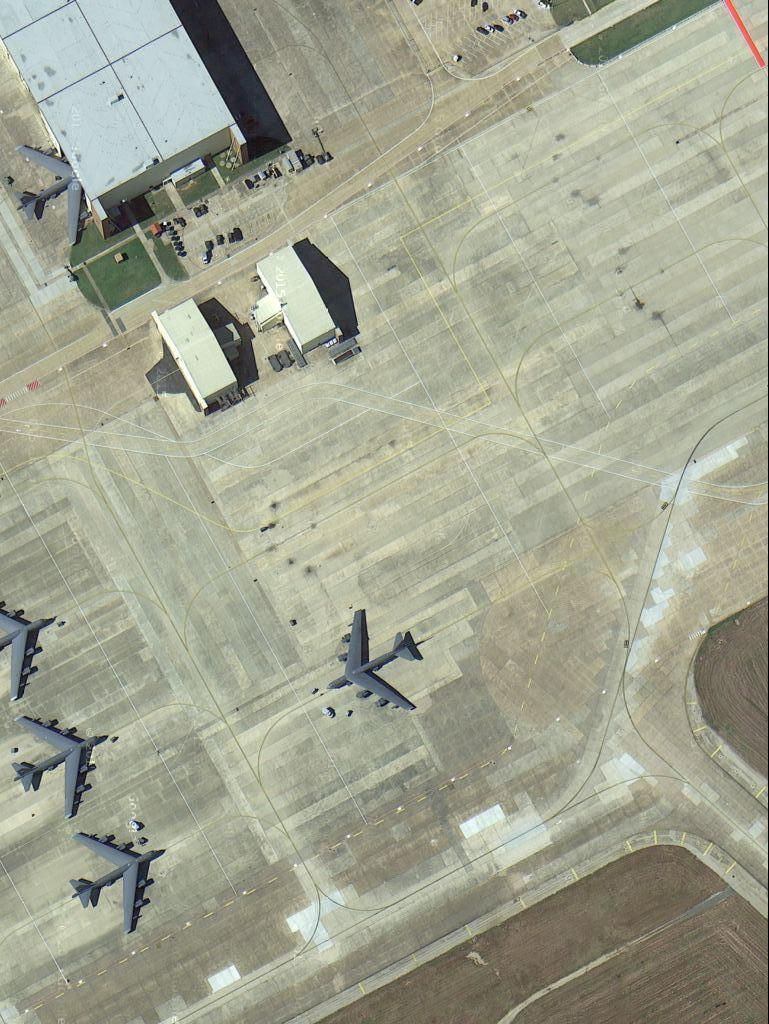B-52: (325, 604, 426, 718), (65, 829, 165, 937), (9, 712, 102, 824), (1, 596, 58, 704)
